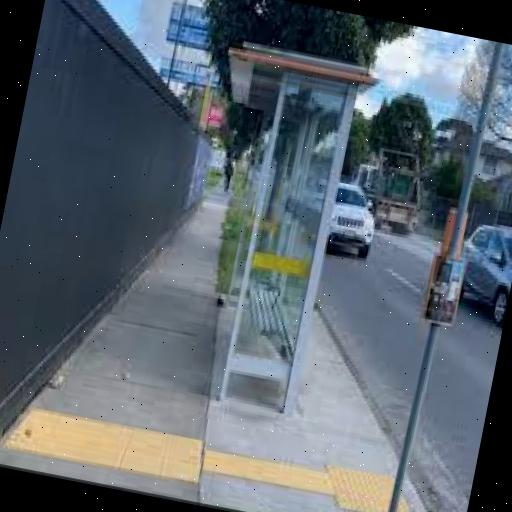tgsi: (6, 408, 336, 495)
